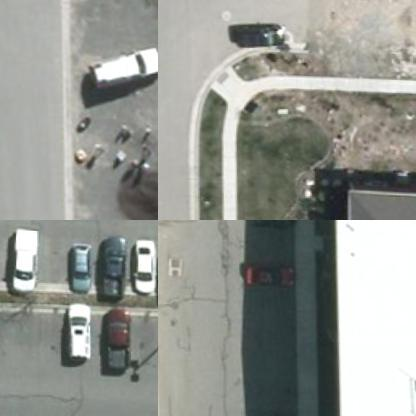car: (82, 36, 157, 91), (56, 298, 90, 364), (92, 300, 126, 366), (3, 224, 36, 289), (92, 231, 125, 296), (121, 236, 151, 292), (226, 18, 278, 49), (59, 241, 89, 289), (234, 261, 292, 284), (147, 240, 157, 297), (147, 307, 157, 364), (236, 220, 294, 229)
